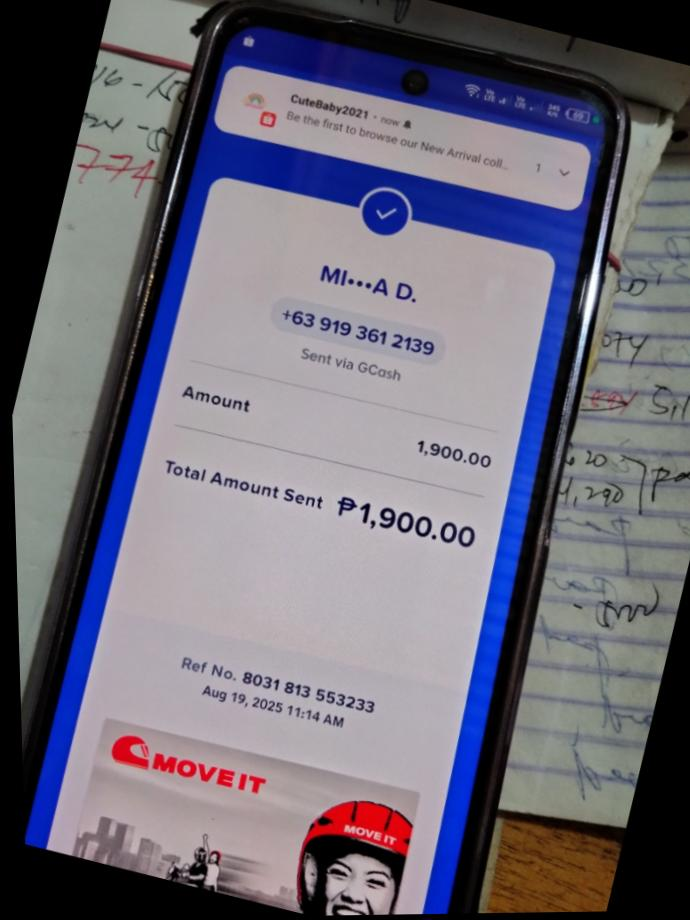Receipt: (24, 127, 585, 916)
